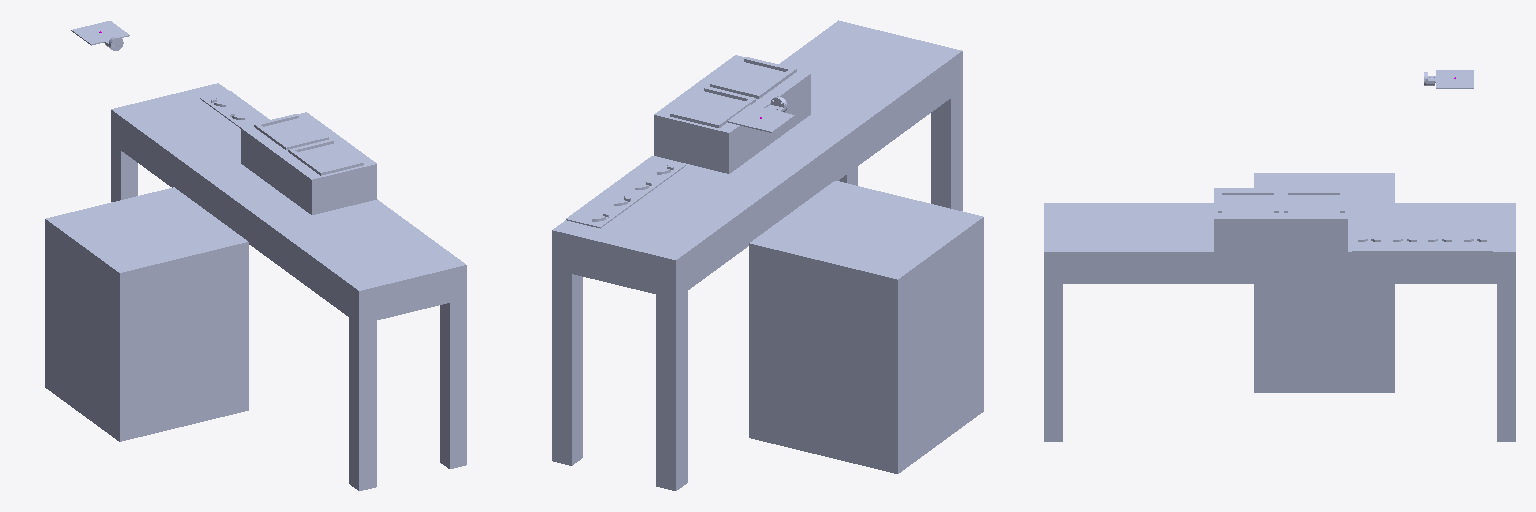
URDF robot description (calibration_scene):
<?xml version="1.0" encoding="utf-8"?>
<!-- =================================================================================== -->
<!-- |    This document was autogenerated by xacro from calibration_scene_description.xacro | -->
<!-- |    EDITING THIS FILE BY HAND IS NOT RECOMMENDED                                 | -->
<!-- =================================================================================== -->
<robot name="calibration_scene">
  <!-- environments -->
  <link name="world_base"/>
  <link name="robot_table_link">
    <inertial>
      <origin rpy="0 0 0" xyz="-0.105 -0.05 -0.375"/>
      <mass value="270"/>
      <inertia ixx="20.75625" ixy="9.3207792197652E-16" ixz="-6.95496724866511E-16" iyy="20.75625" iyz="-4.46389240706941E-16" izz="16.2"/>
    </inertial>
    <visual>
      <origin rpy="0 0 0" xyz="0 0 0"/>
      <geometry>
        <mesh filename="package://demo_table_final/meshes/robot_table_link.STL"/>
      </geometry>
      <material name="">
        <color rgba="0.792156862745098 0.819607843137255 0.933333333333333 1"/>
      </material>
    </visual>
    <collision>
      <origin rpy="0 0 0" xyz="0 0 0"/>
      <geometry>
        <mesh filename="package://demo_table_final/meshes/robot_table_link.STL"/>
      </geometry>
    </collision>
  </link>
  <link name="table_link">
    <inertial>
      <origin rpy="0 0 0" xyz="0.00402126708859457 0.035508393002459 -0.124898664646273"/>
      <mass value="168.944"/>
      <inertia ixx="8.44699759847205" ixy="-1.30104260698261E-15" ixz="-2.60208521396521E-15" iyy="71.945357598472" iyz="3.18207682075481E-15" izz="71.4394277333333"/>
    </inertial>
    <visual>
      <origin rpy="0 0 0" xyz="0 0 0"/>
      <geometry>
        <mesh filename="package://demo_table_final/meshes/table_link.STL"/>
      </geometry>
      <material name="">
        <color rgba="0.792156862745098 0.819607843137255 0.933333333333333 1"/>
      </material>
    </visual>
    <collision>
      <origin rpy="0 0 0" xyz="0 0 0"/>
      <geometry>
        <mesh filename="package://demo_table_final/meshes/table_link.STL"/>
      </geometry>
    </collision>
  </link>
  <joint name="tabke_joint" type="fixed">
    <origin rpy="0 0 -1.5707963267949" xyz="0.409491606997541 -0.235978732911405 0.139999999999999"/>
    <parent link="robot_table_link"/>
    <child link="table_link"/>
    <axis xyz="0 0 0"/>
  </joint>
  <link name="cup_table_link">
    <inertial>
      <origin rpy="0 0 0" xyz="-0.00488252735290881 0.0750000000000001 -0.0014947488016297"/>
      <mass value="0.485007210626774"/>
      <inertia ixx="0.0144827661603697" ixy="6.37638257355761E-19" ixz="1.5226158759248E-05" iyy="0.000767879681095258" iyz="2.78003444654154E-20" izz="0.0152414793054048"/>
    </inertial>
    <visual>
      <origin rpy="0 0 0" xyz="0 0 0"/>
      <geometry>
        <mesh filename="package://demo_table_final/meshes/cup_table_link.STL"/>
      </geometry>
      <material name="">
        <color rgba="0.792156862745098 0.819607843137255 0.933333333333333 1"/>
      </material>
    </visual>
    <collision>
      <origin rpy="0 0 0" xyz="0 0 0"/>
      <geometry>
        <mesh filename="package://demo_table_final/meshes/cup_table_link.STL"/>
      </geometry>
    </collision>
  </link>
  <joint name="cup_table_joint" type="fixed">
    <origin rpy="0 0 1.5707963267949" xyz="-0.525978732911406 0.215557219161956 0.005"/>
    <parent link="table_link"/>
    <child link="cup_table_link"/>
    <axis xyz="0 0 0"/>
  </joint>
  <link name="plate_table_link">
    <inertial>
      <origin rpy="0 0 0" xyz="0.0821309141789029 -0.14 -0.0780889544369172"/>
      <mass value="27.7659"/>
      <inertia ixx="0.812008207991436" ixy="-2.15177346128204E-17" ixz="0.000861743605069532" iyy="0.273754933724942" iyz="1.39808683446883E-17" izz="0.967215330733505"/>
    </inertial>
    <visual>
      <origin rpy="0 0 0" xyz="0 0 0"/>
      <geometry>
        <mesh filename="package://demo_table_final/meshes/plate_table_link.STL"/>
      </geometry>
      <material name="">
        <color rgba="0.792156862745098 0.819607843137255 0.933333333333333 1"/>
      </material>
    </visual>
    <collision>
      <origin rpy="0 0 0" xyz="0 0 0"/>
      <geometry>
        <mesh filename="package://demo_table_final/meshes/plate_table_link.STL"/>
      </geometry>
    </collision>
  </link>
  <joint name="plate_table_joint" type="fixed">
    <origin rpy="0 0 1.5707963267949" xyz="-0.140978732911405 0.050508393002459 0.158"/>
    <parent link="table_link"/>
    <child link="plate_table_link"/>
    <axis xyz="0 0 0"/>
  </joint>
  <joint name="world-env_joint" type="fixed">
    <origin rpy="0 0 0" xyz="0 0 0"/>
    <parent link="world_base"/>
    <child link="robot_table_link"/>
  </joint>
  <!-- Conversion were obtained from http://www.e-paint.co.uk/Lab_values.asp
       unless otherwise stated. -->
  <!-- link list -->
  <link name="irb120_base_link">
    <inertial>
      <mass value="6.215"/>
      <origin rpy="0 0 0" xyz="-0.04204 8.01E-05 0.07964"/>
      <inertia ixx="0.0247272" ixy="-8.0784E-05" ixz="0.00130902" iyy="0.0491285" iyz="-8.0419E-06" izz="0.0472376"/>
    </inertial>
    <visual>
      <origin rpy="0 0 0" xyz="0 0 0"/>
      <geometry>
        <mesh filename="package://irb120_description/meshes/visual/base_link.stl"/>
      </geometry>
      <material name="">
        <color rgba="0.9254902 0.9254902 0.9058824 1"/>
      </material>
    </visual>
    <collision>
      <origin rpy="0 0 0" xyz="0 0 0"/>
      <geometry>
        <mesh filename="package://irb120_description/meshes/collision/base_link.stl"/>
      </geometry>
      <material name="">
        <color rgba="1 1 0 1"/>
      </material>
    </collision>
  </link>
  <link name="irb120_link_1">
    <inertial>
      <mass value="3.067"/>
      <origin rpy="0 0 0" xyz="9.77E-05 -0.00012 0.23841"/>
      <inertia ixx="0.0142175" ixy="-1.28579E-05" ixz="-2.31364E-05" iyy="0.0144041" iyz="1.93404E-05" izz="0.0104533"/>
    </inertial>
    <visual>
      <origin rpy="0 0 0" xyz="0 0 0"/>
      <geometry>
        <mesh filename="package://irb120_description/meshes/visual/link_1.stl"/>
      </geometry>
      <material name="">
        <color rgba="0.9254902 0.9254902 0.9058824 1"/>
      </material>
    </visual>
    <collision>
      <origin rpy="0 0 0" xyz="0 0 0"/>
      <geometry>
        <mesh filename="package://irb120_description/meshes/collision/link_1.stl"/>
      </geometry>
      <material name="">
        <color rgba="1 1 0 1"/>
      </material>
    </collision>
  </link>
  <link name="irb120_link_2">
    <inertial>
      <mass value="3.909"/>
      <origin rpy="0 0 0" xyz="0.00078 -0.00212 0.10124"/>
      <inertia ixx="0.0603111" ixy="9.83431E-06" ixz="5.72407E-05" iyy="0.041569" iyz="-0.00050497" izz="0.0259548"/>
    </inertial>
    <visual>
      <origin rpy="0 0 0" xyz="0 0 0"/>
      <geometry>
        <mesh filename="package://irb120_description/meshes/visual/link_2.stl"/>
      </geometry>
      <material name="">
        <color rgba="0.9254902 0.9254902 0.9058824 1"/>
      </material>
    </visual>
    <collision>
      <origin rpy="0 0 0" xyz="0 0 0"/>
      <geometry>
        <mesh filename="package://irb120_description/meshes/collision/link_2.stl"/>
      </geometry>
      <material name="">
        <color rgba="1 1 0 1"/>
      </material>
    </collision>
  </link>
  <link name="irb120_link_3">
    <inertial>
      <mass value="2.944"/>
      <origin rpy="0 0 0" xyz="0.02281 0.00106 0.05791"/>
      <inertia ixx="0.00835606" ixy="-8.01545E-05" ixz="0.00142884" iyy="0.016713" iyz="-0.000182227" izz="0.0126984"/>
    </inertial>
    <visual>
      <origin rpy="0 0 0" xyz="0 0 0"/>
      <geometry>
        <mesh filename="package://irb120_description/meshes/visual/link_3.stl"/>
      </geometry>
      <material name="">
        <color rgba="0.9254902 0.9254902 0.9058824 1"/>
      </material>
    </visual>
    <collision>
      <origin rpy="0 0 0" xyz="0 0 0"/>
      <geometry>
        <mesh filename="package://irb120_description/meshes/collision/link_3.stl"/>
      </geometry>
      <material name="">
        <color rgba="1 1 0 1"/>
      </material>
    </collision>
  </link>
  <link name="irb120_link_4">
    <inertial>
      <mass value="1.328"/>
      <origin rpy="0 0 0" xyz="0.2247 0.00015 0.00041"/>
      <inertia ixx="0.00284661" ixy="-2.12765E-05" ixz="-1.6435E-05" iyy="0.00401346" iyz="1.31336E-05" izz="0.0052535"/>
    </inertial>
    <visual>
      <origin rpy="0 0 0" xyz="0 0 0"/>
      <geometry>
        <mesh filename="package://irb120_description/meshes/visual/link_4.stl"/>
      </geometry>
      <material name="">
        <color rgba="0.9254902 0.9254902 0.9058824 1"/>
      </material>
    </visual>
    <collision>
      <origin rpy="0 0 0" xyz="0 0 0"/>
      <geometry>
        <mesh filename="package://irb120_description/meshes/collision/link_4.stl"/>
      </geometry>
      <material name="">
        <color rgba="1 1 0 1"/>
      </material>
    </collision>
  </link>
  <link name="irb120_link_5">
    <inertial>
      <mass value="0.546"/>
      <origin rpy="0 0 0" xyz="-0.00109 3.68E-05 6.22E-05"/>
      <inertia ixx="0.000404891" ixy="1.61943E-06" ixz="8.46805E-07" iyy="0.000892825" iyz="-1.51792E-08" izz="0.000815468"/>
    </inertial>
    <visual>
      <origin rpy="0 0 0" xyz="0 0 0"/>
      <geometry>
        <mesh filename="package://irb120_description/meshes/visual/link_5.stl"/>
      </geometry>
      <material name="">
        <color rgba="0.9254902 0.9254902 0.9058824 1"/>
      </material>
    </visual>
    <collision>
      <origin rpy="0 0 0" xyz="0 0 0"/>
      <geometry>
        <mesh filename="package://irb120_description/meshes/collision/link_5.stl"/>
      </geometry>
      <material name="">
        <color rgba="1 1 0 1"/>
      </material>
    </collision>
  </link>
  <link name="irb120_link_6">
    <inertial>
      <mass value="0.137"/>
      <origin rpy="0 0 0" xyz="-0.00706 -0.00017 -1.32E-06"/>
      <inertia ixx="0.001" ixy="0" ixz="0" iyy="0.001" iyz="0" izz="0.001"/>
    </inertial>
    <visual>
      <origin rpy="0 0 0" xyz="0 0 0"/>
      <geometry>
        <mesh filename="package://irb120_description/meshes/visual/link_6.stl"/>
      </geometry>
      <material name="">
        <color rgba="0.1882353 0.1960784 0.2039216 1"/>
      </material>
    </visual>
    <collision>
      <origin rpy="0 0 0" xyz="0 0 0"/>
      <geometry>
        <mesh filename="package://irb120_description/meshes/collision/link_6.stl"/>
      </geometry>
      <material name="">
        <color rgba="1 1 0 1"/>
      </material>
    </collision>
  </link>
  <!-- end of link list -->
  <!-- joint list -->
  <joint name="irb120_joint_1" type="revolute">
    <origin rpy="0 0 0" xyz="0 0 0"/>
    <parent link="irb120_base_link"/>
    <child link="irb120_link_1"/>
    <limit effort="30" lower="-2.87979" upper="2.87979" velocity="4.36332"/>
    <axis xyz="0 0 1"/>
    <dynamics damping="0.0" friction="0.0"/>
  </joint>
  <joint name="irb120_joint_2" type="revolute">
    <origin rpy="0 0 0" xyz="0 0 0.29"/>
    <parent link="irb120_link_1"/>
    <child link="irb120_link_2"/>
    <limit effort="30" lower="-1.91986" upper="1.91986" velocity="4.36332"/>
    <axis xyz="0 1 0"/>
    <dynamics damping="0.0" friction="0.0"/>
  </joint>
  <joint name="irb120_joint_3" type="revolute">
    <origin rpy="0 0 0" xyz="0 0 0.27"/>
    <parent link="irb120_link_2"/>
    <child link="irb120_link_3"/>
    <limit effort="30" lower="-1.91986" upper="1.22173" velocity="4.36332"/>
    <axis xyz="0 1 0"/>
    <dynamics damping="0.0" friction="0.0"/>
  </joint>
  <joint name="irb120_joint_4" type="revolute">
    <origin rpy="0 0 0" xyz="0 0 0.07"/>
    <parent link="irb120_link_3"/>
    <child link="irb120_link_4"/>
    <limit effort="30" lower="-2.79253" upper="2.79253" velocity="5.58505"/>
    <axis xyz="1 0 0"/>
    <dynamics damping="0.0" friction="0.0"/>
  </joint>
  <joint name="irb120_joint_5" type="revolute">
    <origin rpy="0 0 0" xyz="0.302 0 0"/>
    <parent link="irb120_link_4"/>
    <child link="irb120_link_5"/>
    <limit effort="30" lower="-2.094395" upper="2.094395" velocity="5.58505"/>
    <axis xyz="0 1 0"/>
    <dynamics damping="0.0" friction="0.0"/>
  </joint>
  <joint name="irb120_joint_6" type="revolute">
    <origin rpy="0 0 0" xyz="0.072 0 0"/>
    <parent link="irb120_link_5"/>
    <child link="irb120_link_6"/>
    <!-- <limit effort="30" lower="-6.98132" upper="6.98132" velocity="7.33038"/> -->
    <limit effort="30" lower="-3.752457892" upper="3.752457892" velocity="7.33038"/>
    <axis xyz="1 0 0"/>
    <dynamics damping="0.0" friction="0.0"/>
  </joint>
  <!-- end of joint list -->
  <!-- ROS-Industrial 'base' frame: base_link to ABB World Coordinates transform -->
  <link name="irb120_base"/>
  <joint name="irb120_base_link-base" type="fixed">
    <origin rpy="0 0 0" xyz="0 0 0"/>
    <axis xyz="0 0 0"/>
    <parent link="irb120_base"/>
    <child link="irb120_base_link"/>
  </joint>
  <!-- ROS-Industrial 'flange' frame: attachment point for EEF models -->
  <link name="irb120_flange"/>
  <joint name="irb120_joint_6-flange" type="fixed">
    <origin rpy="0 0 0" xyz="0 0 0"/>
    <parent link="irb120_link_6"/>
    <child link="irb120_flange"/>
  </joint>
  <!-- ROS-Industrial 'tool0' frame: all-zeros tool frame -->
  <link name="irb120_tool0"/>
  <joint name="irb120_link_6-tool0" type="fixed">
    <origin rpy="0 1.57079632679 0" xyz="0 0 0"/>
    <parent link="irb120_flange"/>
    <child link="irb120_tool0"/>
  </joint>
  <joint name="world-irb120_joint" type="fixed">
    <!-- <origin xyz="0.3625 -0.1125 0" rpy="0 0 ${PI}"/> -->
    <!-- <origin xyz="0.21 0 0" rpy="0 0 0"/> -->
    <origin rpy="0 0 1.5707963267949" xyz="0 0 0"/>
    <parent link="world_base"/>
    <child link="irb120_base"/>
  </joint>
  <link name="irb120_calib_irb120_mount">
    <inertial>
      <origin rpy="0 0 0" xyz="-8.12565780551138E-05 -0.00287805849749058 -3.52248683292909E-19"/>
      <mass value="0.0209349166233355"/>
      <inertia ixx="4.95778958493382E-06" ixy="1.97846625513937E-10" ixz="-4.43831754358549E-23" iyy="9.71241755254459E-06" iyz="-2.75701045324081E-22" izz="5.03139901662538E-06"/>
    </inertial>
    <visual>
      <origin rpy="0 0 0" xyz="0 0 0"/>
      <geometry>
        <mesh filename="package://camera_calibration_tool_irb120/meshes/calib_irb120_mount.STL"/>
      </geometry>
      <material name="">
        <color rgba="0.792156862745098 0.819607843137255 0.933333333333333 1"/>
      </material>
    </visual>
    <collision>
      <origin rpy="0 0 0" xyz="0 0 0"/>
      <geometry>
        <mesh filename="package://camera_calibration_tool_irb120/meshes/calib_irb120_mount.STL"/>
      </geometry>
    </collision>
  </link>
  <link name="irb120_calib_chessboard_mount">
    <inertial>
      <origin rpy="0 0 0" xyz="-3.45867604983378E-17 -0.00894935918184562 0.0168899392357391"/>
      <mass value="0.051158149759327"/>
      <inertia ixx="1.66225607083464E-05" ixy="-3.06301449855151E-22" ixz="8.3201613309091E-22" iyy="1.74442705550819E-05" iyz="3.7130506703622E-06" izz="2.00339404612724E-05"/>
    </inertial>
    <visual>
      <origin rpy="0 0 0" xyz="0 0 0"/>
      <geometry>
        <mesh filename="package://camera_calibration_tool_irb120/meshes/calib_chessboard_mount.STL"/>
      </geometry>
      <material name="">
        <color rgba="0.792156862745098 0.819607843137255 0.933333333333333 1"/>
      </material>
    </visual>
    <collision>
      <origin rpy="0 0 0" xyz="0 0 0"/>
      <geometry>
        <mesh filename="package://camera_calibration_tool_irb120/meshes/calib_chessboard_mount.STL"/>
      </geometry>
    </collision>
  </link>
  <joint name="irb120_calib_mount_joint" type="fixed">
    <origin rpy="1.5708 0 0" xyz="0 -0.006 0"/>
    <parent link="irb120_calib_irb120_mount"/>
    <child link="irb120_calib_chessboard_mount"/>
    <axis xyz="0 0 0"/>
  </joint>
  <link name="irb120_calib_chessboard">
    <inertial>
      <origin rpy="0 0 0" xyz="9.22626218376613E-18 -0.00587706046456411 0.00249956082033895"/>
      <mass value="0.153331049840439"/>
      <inertia ixx="0.000390178689718211" ixy="4.45302065945594E-20" ixz="-1.10250787557035E-21" iyy="0.000391719917576771" iyz="-6.27088743359988E-09" izz="0.00078125964975703"/>
    </inertial>
    <visual>
      <origin rpy="0 0 0" xyz="0 0 0"/>
      <geometry>
        <mesh filename="package://camera_calibration_tool_irb120/meshes/calib_chessboard.STL"/>
      </geometry>
      <material name="">
        <color rgba="0.792156862745098 0.819607843137255 0.933333333333333 1"/>
      </material>
    </visual>
    <collision>
      <origin rpy="0 0 0" xyz="0 0 0"/>
      <geometry>
        <mesh filename="package://camera_calibration_tool_irb120/meshes/calib_chessboard.STL"/>
      </geometry>
    </collision>
  </link>
  <joint name="irb120_calib_chessboard_joint" type="fixed">
    <origin rpy="1.5708 0 0" xyz="0 0 0.124"/>
    <parent link="irb120_calib_chessboard_mount"/>
    <child link="irb120_calib_chessboard"/>
    <axis xyz="0 0 0"/>
  </joint>
  <joint name="irb120-calib_joint" type="fixed">
    <parent link="irb120_tool0"/>
    <child link="irb120_calib_irb120_mount"/>
    <origin rpy="-1.570796327 0 1.570796327" xyz="0 0 0"/>
  </joint>
  <!-- irb120 calibration board center point -->
  <link name="irb120_calib_center_point">
    <visual>
      <origin rpy="0 0 0" xyz="0 0 0"/>
      <geometry>
        <sphere radius="0.005"/>
      </geometry>
      <material name="irb120_calib_center_point">
        <color rgba="1 0 1 0.1"/>
      </material>
    </visual>
  </link>
  <joint name="irb120_calib_center_point_joint" type="fixed">
    <parent link="irb120_calib_irb120_mount"/>
    <child link="irb120_calib_center_point"/>
    <origin rpy="0 0 0" xyz="0 -0.13 0"/>
  </joint>
</robot>

--- Facts derived from the render (not from the file) ---
3 views of the same robot in one strip: view 1: azimuth 30°, elevation 25°; view 2: azimuth 150°, elevation 25°; view 3: azimuth 270°, elevation 25° (orthographic).
Model calibration_scene with 19 links and 18 joints (6 revolute, 12 fixed), rooted at world_base, posed all joints at 0.
Visible links, largest first — view 1: robot_table_link, table_link, plate_table_link, cup_table_link, irb120_calib_chessboard; view 2: robot_table_link, table_link, plate_table_link, cup_table_link, irb120_calib_chessboard; view 3: table_link, robot_table_link, plate_table_link, cup_table_link, irb120_calib_chessboard.
Boxes of the visible links, x1,y1,x2,y2 form: robot_table_link: [45, 187, 248, 441]; table_link: [111, 83, 466, 490]; plate_table_link: [241, 112, 376, 214]; cup_table_link: [200, 91, 269, 128]; irb120_calib_chessboard: [71, 21, 129, 45]; robot_table_link: [749, 181, 983, 473]; table_link: [552, 20, 962, 490]; plate_table_link: [654, 55, 810, 173]; cup_table_link: [566, 156, 685, 228]; irb120_calib_chessboard: [727, 104, 794, 132]; table_link: [1044, 203, 1515, 441]; robot_table_link: [1254, 173, 1394, 392]; plate_table_link: [1214, 188, 1347, 251]; cup_table_link: [1352, 237, 1492, 251]; irb120_calib_chessboard: [1428, 70, 1473, 88].
Bounding box of the posed robot: 1.1 × 2 × 1.41 m (x, y, z).
Meshes: 14 distinct files referenced, 7 mesh visuals loaded (7 binary STL); not drawn: 7 (reference not matched to a file when rendering).